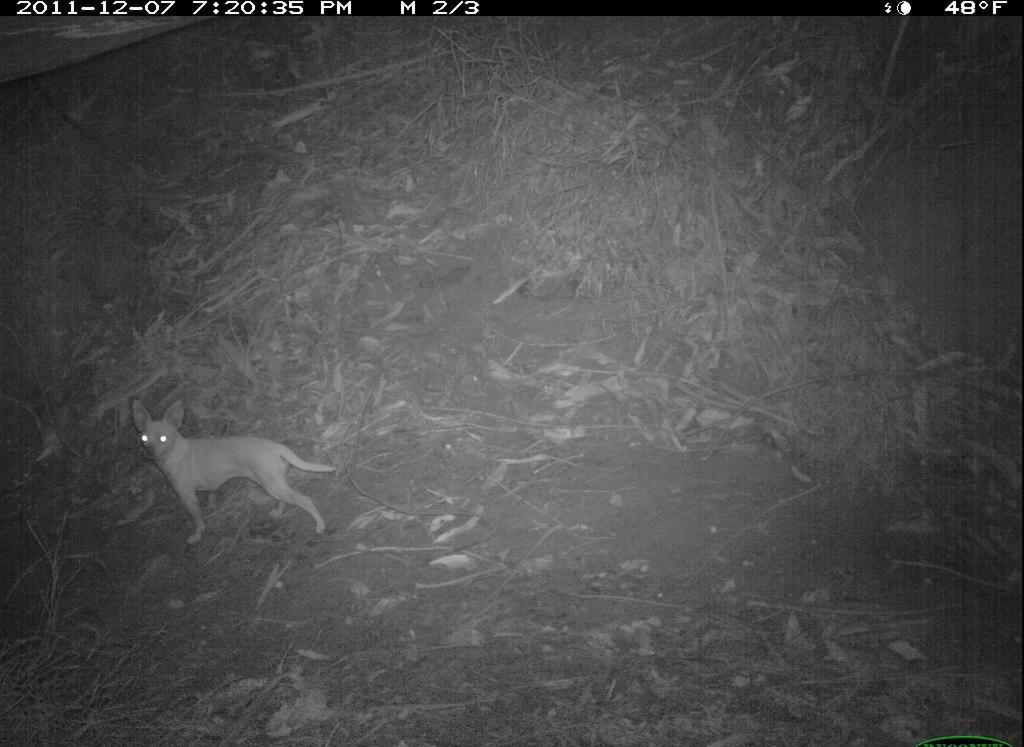dog: (123, 391, 349, 552)
